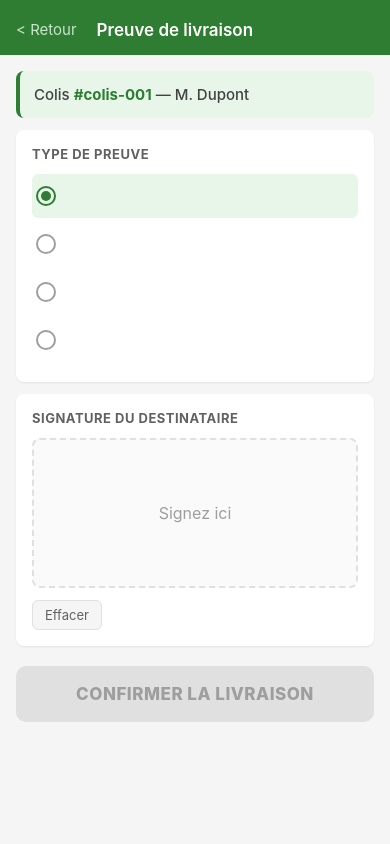
Test: CapturePreuveScreen (US-008 + US-009) › US-009 : affiche le bouton caméra après sélection PHOTO
Click the radio button with test id "type-preuve-PHOTO" at (46, 244), box 36,234 -> 56,254
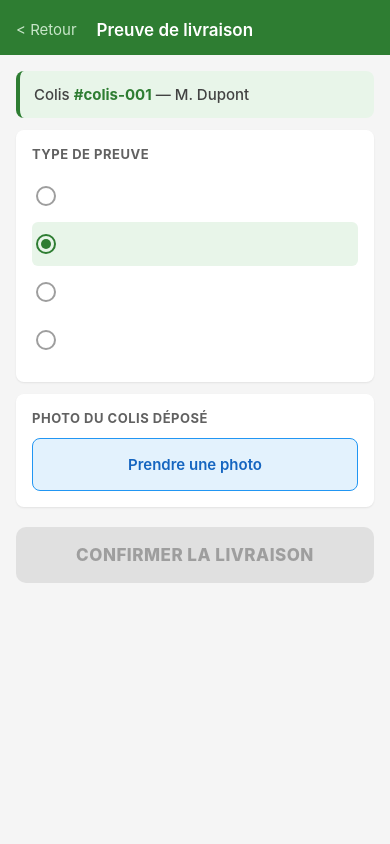
Result: the button with test id "bouton-ouvrir-camera" is shown at 32,438 -> 358,491
